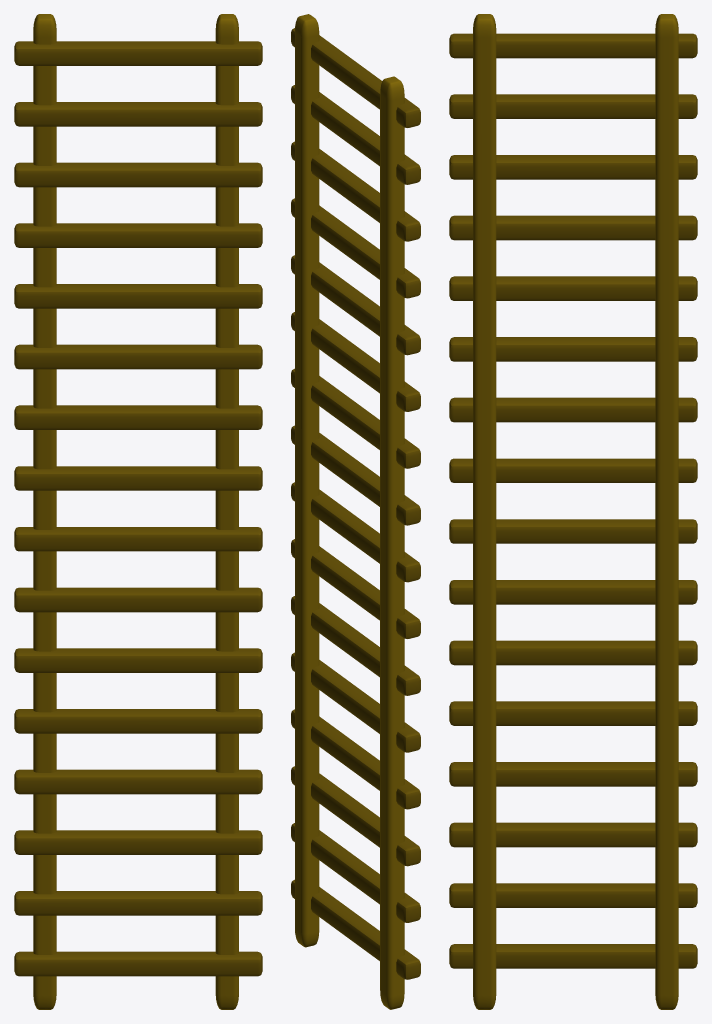
The model's file is ladderwooden.fbx.
The picture shows the model from 3 angles, left to right: view 1: azimuth 90°, elevation 25°; view 2: azimuth 210°, elevation 25°; view 3: azimuth 270°, elevation 25°; orthographic projection. The views are drawn at different scales.
Parts seen in each view (by area): view 1: pCube19; view 2: pCube19; view 3: pCube19.
Part boxes in pixels (x1,y1,x2,y2): pCube19: (14,14,262,1009); pCube19: (291,14,420,1009); pCube19: (449,14,697,1009).
Size of the model in its own units: 12.04 by 428 by 97.24.
